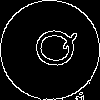Q: (25, 25, 78, 70)
